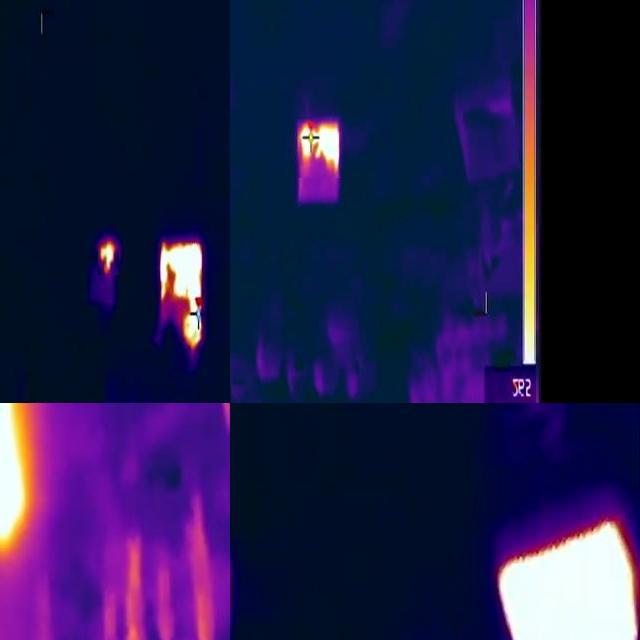fire: (497, 516, 640, 640), (1, 404, 37, 566), (160, 241, 210, 349), (298, 117, 342, 179), (99, 238, 120, 276)
